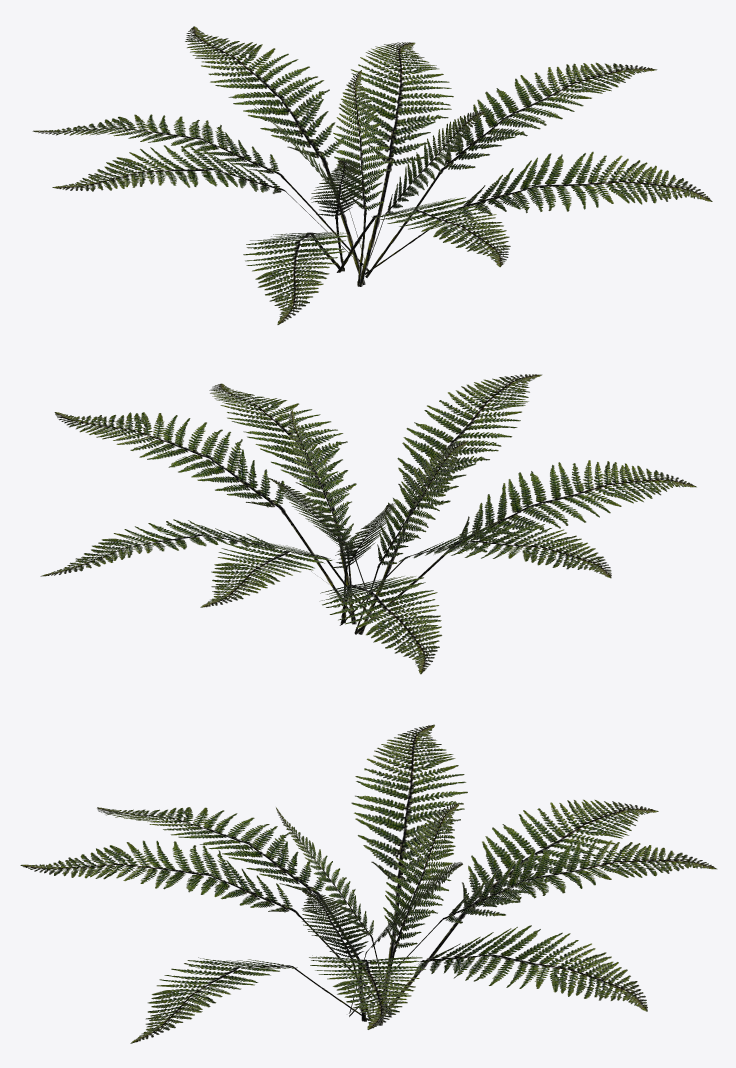
The model's file is fern_1.obj.
3 views of the same model, one above another, from view 1: azimuth 30°, elevation 25°; view 2: azimuth 150°, elevation 25°; view 3: azimuth 270°, elevation 25° (orthographic). The views are drawn at different scales.
Visible parts, largest first — view 1: frond; view 2: frond; view 3: frond.
Part boxes in pixels (x1,y1,x2,y2): frond: (32,26,712,324); frond: (40,374,696,674); frond: (20,724,717,1043).
Bounding box in the file's own units: 99.13 × 28.58 × 94.69.
1 material, 1 textured.
